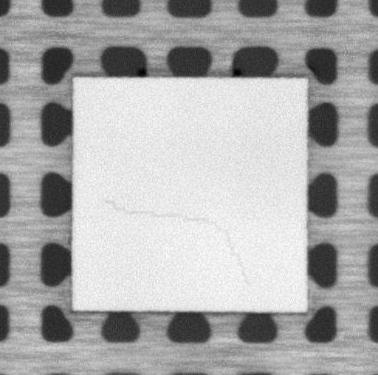DIE_CRACK: (106, 199, 250, 286)
